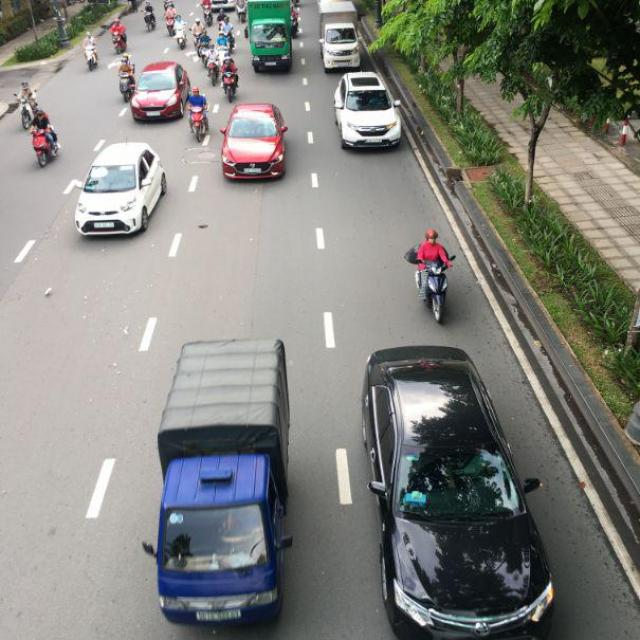car: (363, 346, 553, 637), (75, 142, 170, 239), (332, 71, 404, 153), (220, 102, 290, 183), (131, 59, 194, 121), (320, 22, 361, 71)
motorcycle: (418, 261, 452, 327), (187, 92, 211, 144), (31, 130, 61, 170), (223, 69, 240, 100)
truck: (149, 331, 302, 626), (248, 0, 295, 73)
